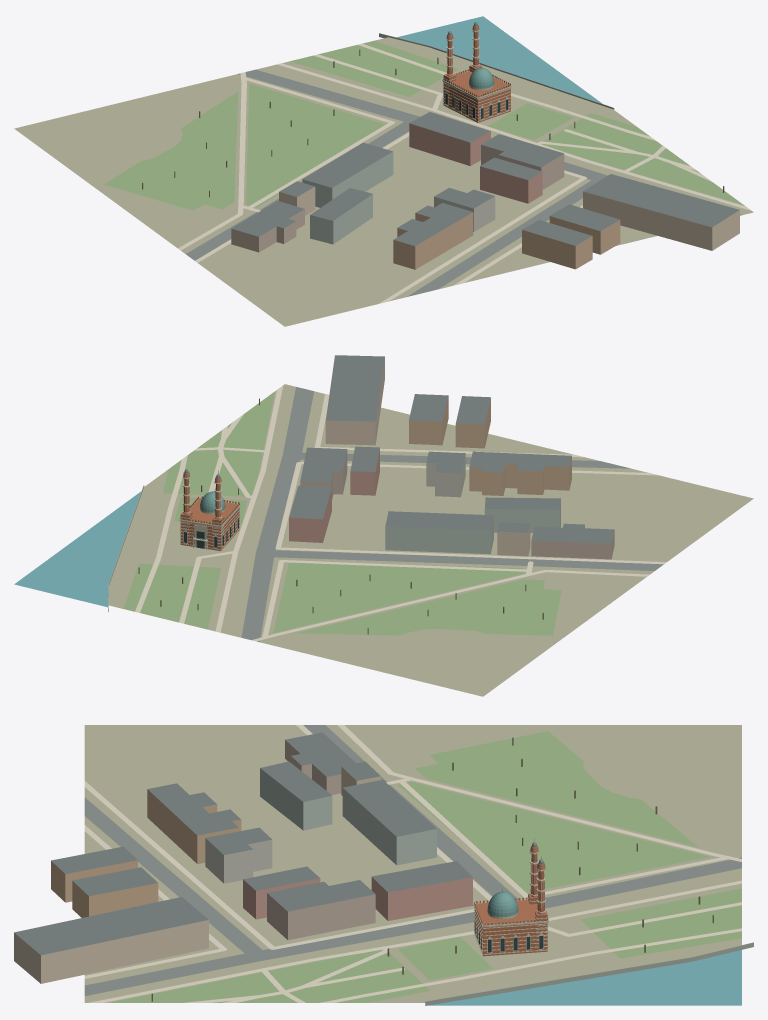
File: sector--3_-1.glb
The picture shows the model from 3 angles, top to bottom: view 1: azimuth 30°, elevation 25°; view 2: azimuth 150°, elevation 25°; view 3: azimuth 270°, elevation 25°; orthographic projection. The views are drawn at different scales.
Visible parts, largest first — view 1: -3:-1-ground, -3:-1-park, -3:-1-facade, -3:-1-roof, -3:-1-paving, -3:-1-road, -3:-1-water, -3:-1-masonry, -3:-1-stone, -3:-1-bank; view 2: -3:-1-ground, -3:-1-park, -3:-1-facade, -3:-1-roof, -3:-1-paving, -3:-1-road, -3:-1-water, -3:-1-masonry, -3:-1-stone; view 3: -3:-1-ground, -3:-1-park, -3:-1-facade, -3:-1-roof, -3:-1-paving, -3:-1-road, -3:-1-water, -3:-1-masonry, -3:-1-stone, -3:-1-bank, -3:-1-metal.
Boxes of the visible parts, x1,y1,x2,y2 form: -3:-1-ground: [14, 37, 753, 326]; -3:-1-park: [104, 41, 743, 210]; -3:-1-facade: [231, 123, 739, 269]; -3:-1-roof: [231, 112, 739, 245]; -3:-1-paving: [178, 43, 751, 303]; -3:-1-road: [186, 69, 741, 296]; -3:-1-water: [397, 16, 602, 103]; -3:-1-masonry: [443, 32, 510, 122]; -3:-1-stone: [442, 24, 511, 121]; -3:-1-bank: [379, 33, 614, 109]; -3:-1-ground: [108, 384, 753, 696]; -3:-1-park: [123, 391, 561, 635]; -3:-1-facade: [289, 357, 614, 559]; -3:-1-roof: [289, 355, 614, 543]; -3:-1-paving: [135, 385, 666, 641]; -3:-1-road: [241, 387, 663, 641]; -3:-1-water: [14, 491, 141, 607]; -3:-1-masonry: [180, 479, 239, 550]; -3:-1-stone: [179, 472, 240, 550]; -3:-1-ground: [84, 725, 741, 1002]; -3:-1-park: [109, 731, 741, 1002]; -3:-1-facade: [14, 740, 472, 983]; -3:-1-roof: [14, 732, 472, 955]; -3:-1-paving: [84, 725, 741, 1002]; -3:-1-road: [84, 725, 741, 995]; -3:-1-water: [429, 950, 741, 1005]; -3:-1-masonry: [474, 854, 547, 956]; -3:-1-stone: [473, 845, 548, 954]; -3:-1-bank: [425, 942, 753, 1005]; -3:-1-metal: [487, 838, 548, 932].
Size of the model in its own units: 200 by 32.75 by 225.
